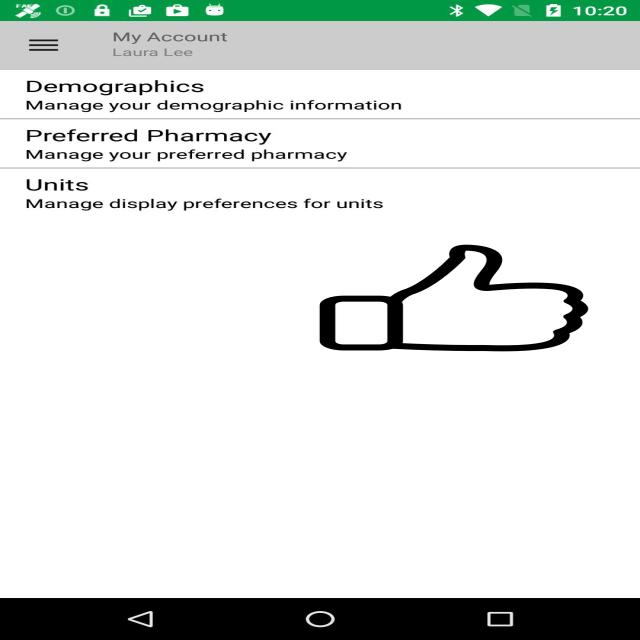privacy zuckering: (316, 245, 592, 351)
